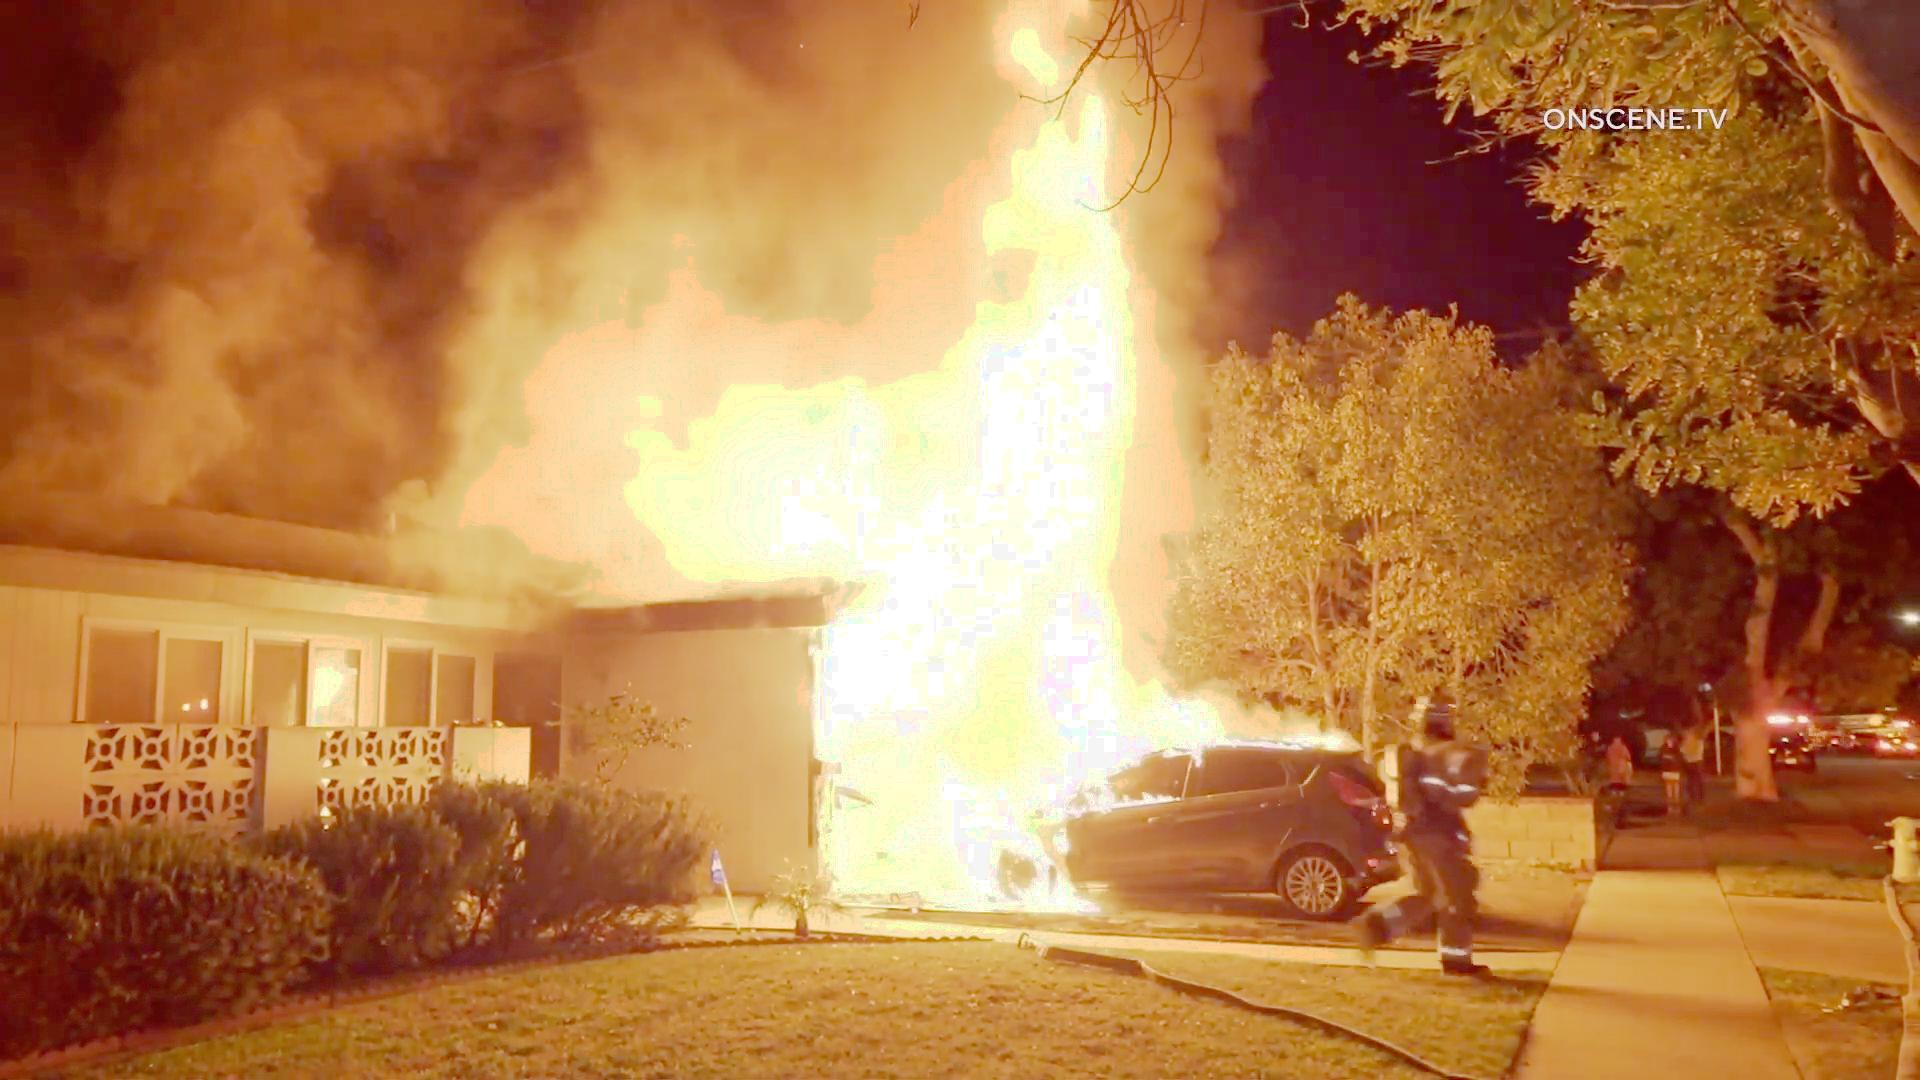fire: (885, 0, 1153, 731), (646, 348, 1160, 583), (823, 596, 1055, 906)
smoke: (3, 3, 633, 505), (0, 0, 873, 334), (0, 0, 873, 193)
